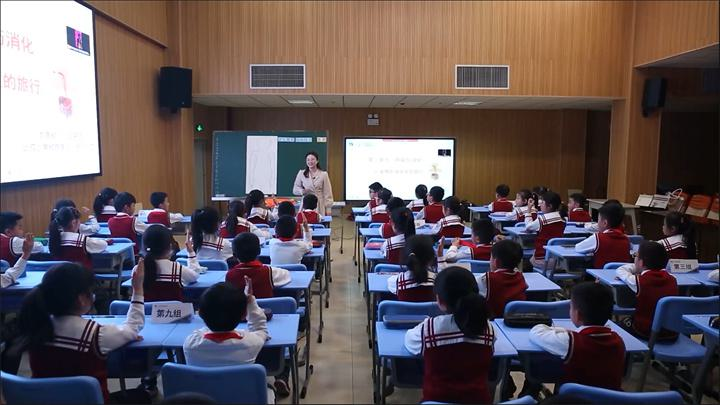hands-up: (37, 256, 152, 364), (192, 270, 266, 374), (552, 270, 612, 367), (141, 230, 198, 297), (386, 237, 447, 299), (480, 234, 528, 304), (1, 232, 44, 304), (273, 213, 319, 272), (524, 195, 574, 246), (246, 186, 281, 223)
listen: (232, 234, 283, 293), (583, 206, 621, 266), (145, 189, 173, 225), (368, 189, 392, 225), (95, 188, 117, 222)
